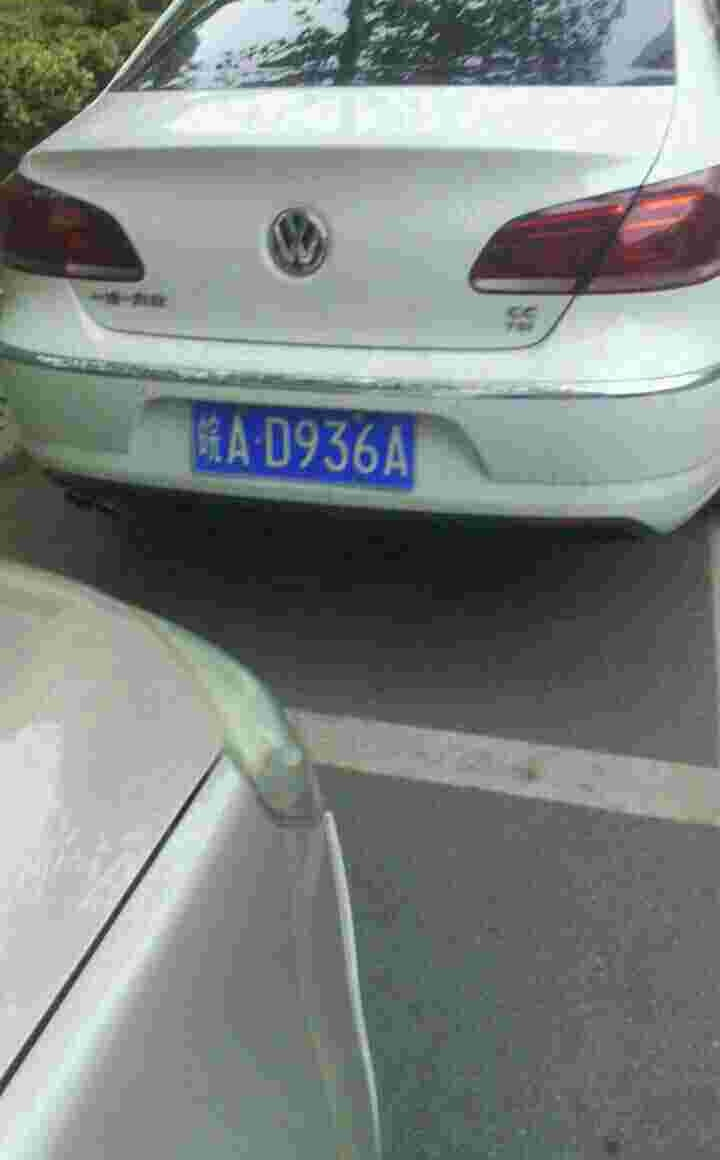plate: (190, 393, 421, 494)
